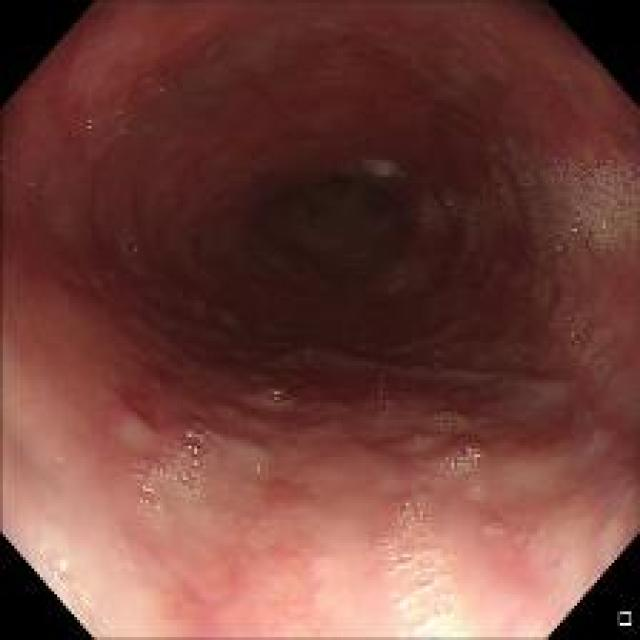bubbles: (461, 146, 630, 266), (381, 496, 475, 639), (119, 424, 222, 518), (432, 424, 488, 482), (550, 304, 595, 348), (439, 402, 469, 441), (255, 379, 288, 405), (404, 432, 438, 450), (465, 482, 489, 501), (485, 519, 505, 535), (595, 355, 611, 375), (535, 301, 550, 318)
color misalignment: (581, 151, 621, 176), (186, 430, 201, 492), (402, 500, 428, 520), (444, 60, 460, 80), (570, 214, 582, 235), (552, 238, 562, 256)
contrast: (161, 118, 530, 368)
saturation: (390, 576, 475, 636)
specularity: (448, 451, 482, 470), (52, 555, 71, 574), (136, 491, 152, 508), (139, 482, 158, 494)
